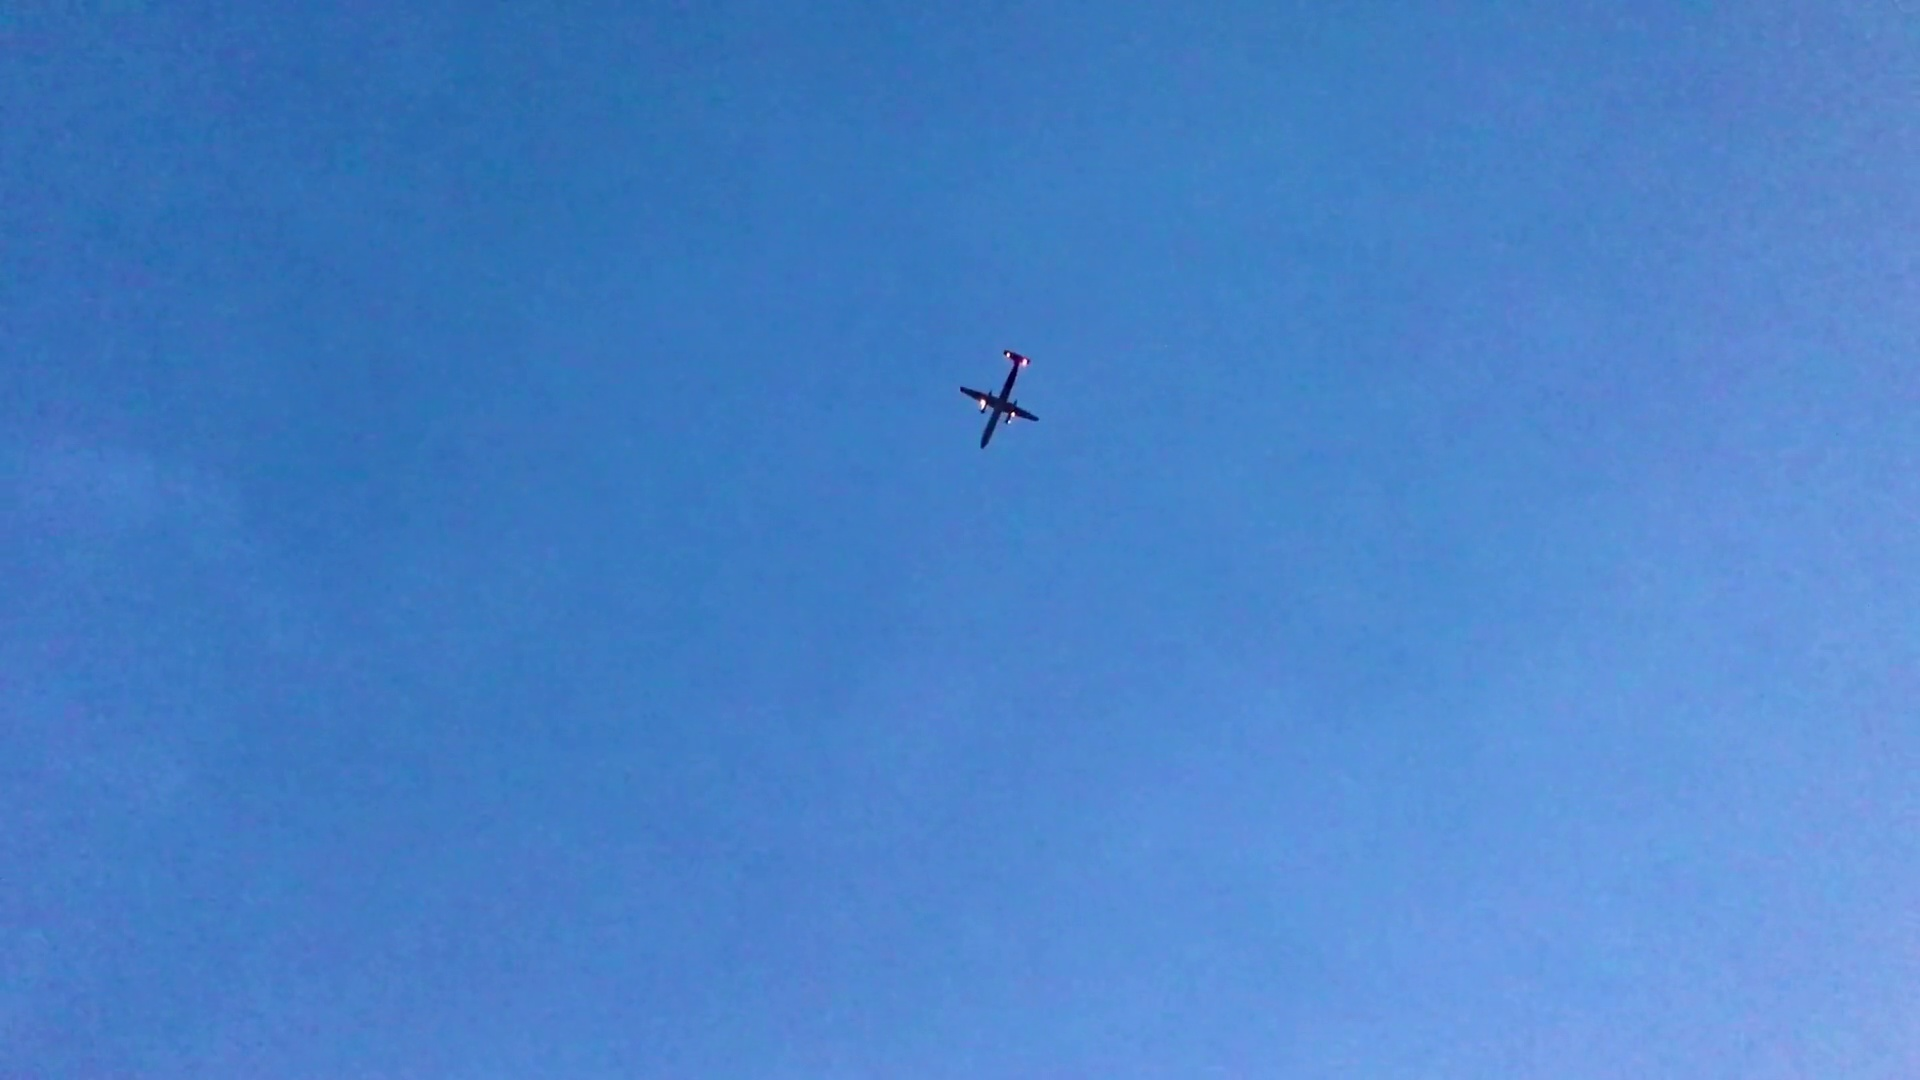plane: (961, 348, 1038, 454)
